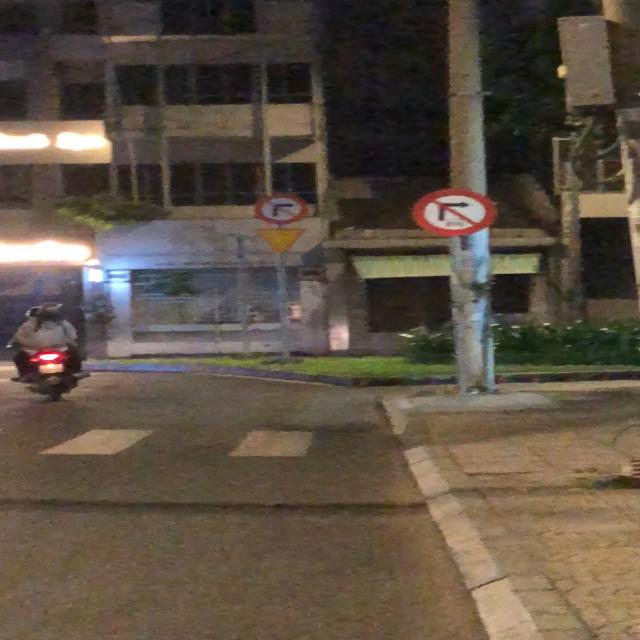Bien bao cam re phai: (254, 192, 311, 223)
Bien bao cam xe o to re phai: (410, 188, 499, 239)
Bien bao giao nhau voi duong uu tien: (251, 226, 310, 254)
